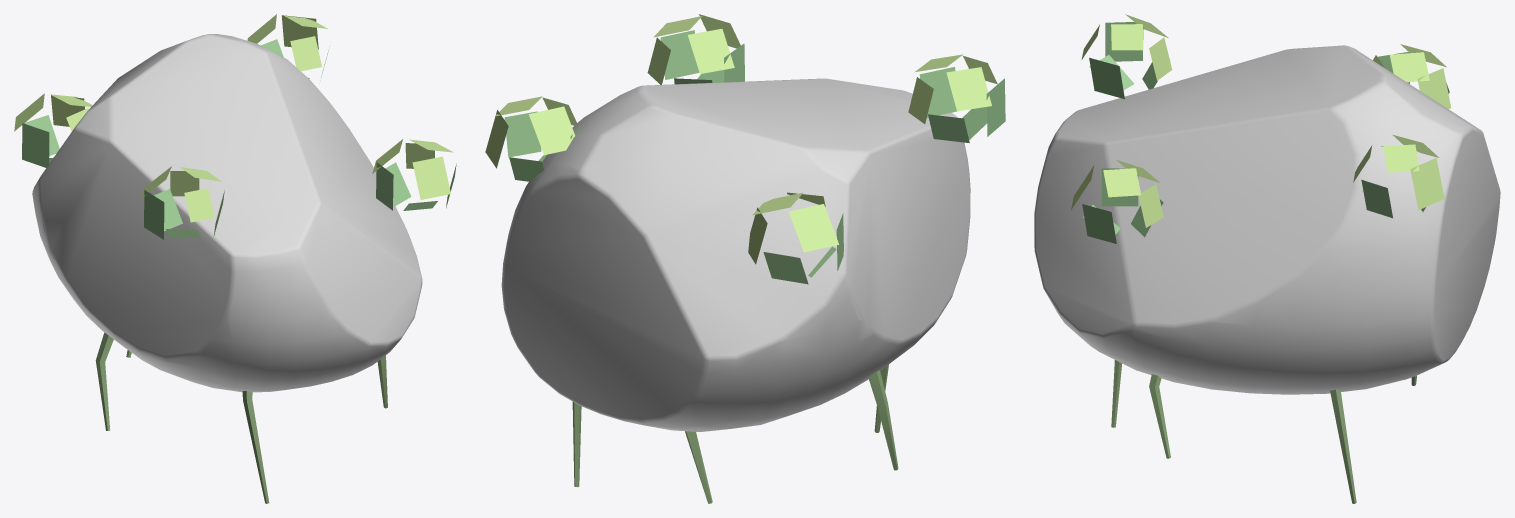
Rendered from mover_floating_rock_b.glb.
3 views of the same model, side by side, from view 1: azimuth 30°, elevation 25°; view 2: azimuth 150°, elevation 25°; view 3: azimuth 270°, elevation 25° (orthographic). The views are drawn at different scales.
Parts seen in each view (by area): view 1: mover_floating_rock_b; view 2: mover_floating_rock_b; view 3: mover_floating_rock_b.
Part boxes in pixels (x1,y1,x2,y2): mover_floating_rock_b: (14, 14, 456, 503); mover_floating_rock_b: (485, 14, 1005, 503); mover_floating_rock_b: (1034, 14, 1500, 503).
Bounding box in the file's own units: 3.12 × 3.47 × 3.85.
